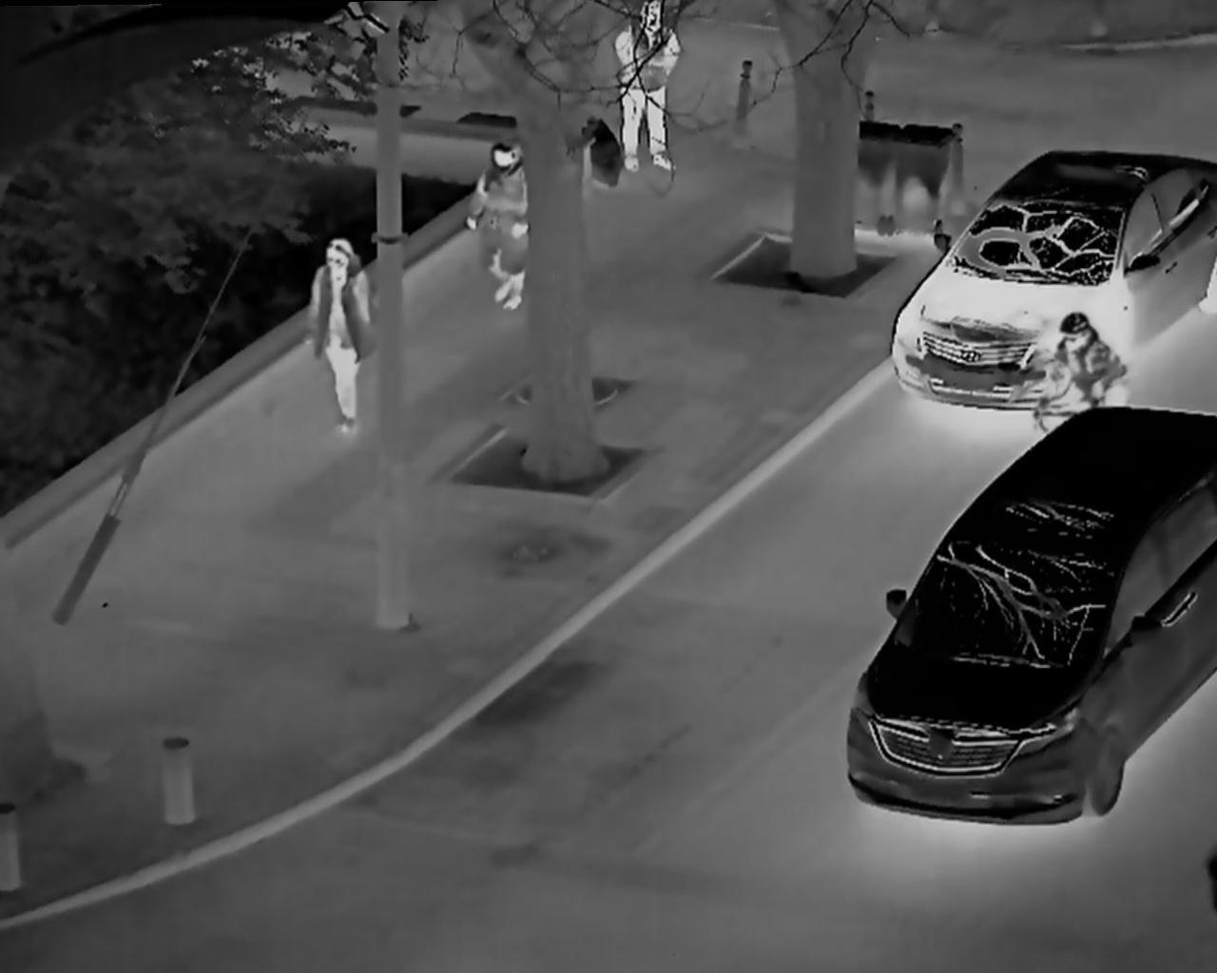person: (1029, 294, 1140, 433), (303, 226, 374, 440), (464, 124, 538, 312), (612, 4, 685, 181)
